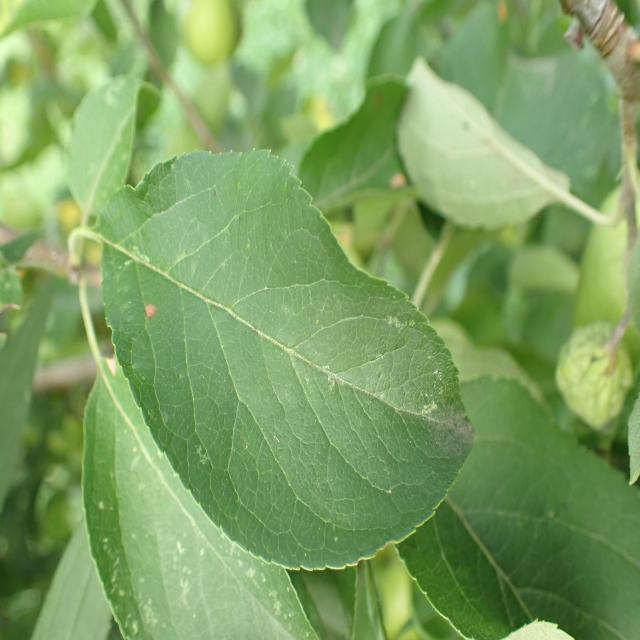Black Rot: (108, 282, 175, 342)
